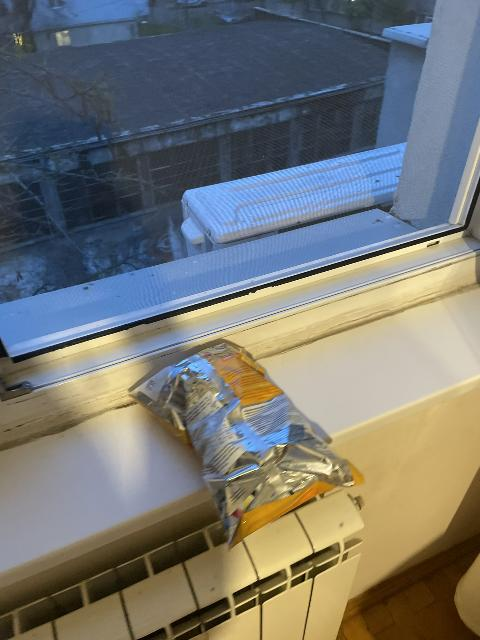Chio Hula Hoops Cheese 70g: (131, 337, 360, 549)
